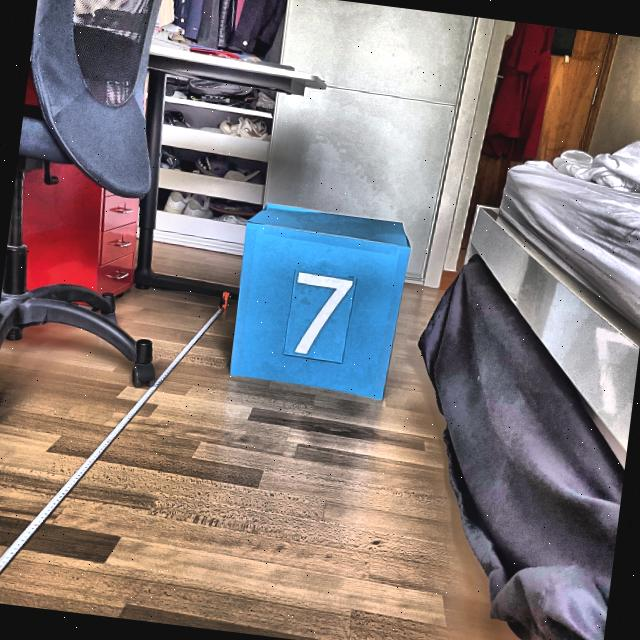blue box: (222, 196, 416, 404)
seven: (284, 268, 356, 362)
